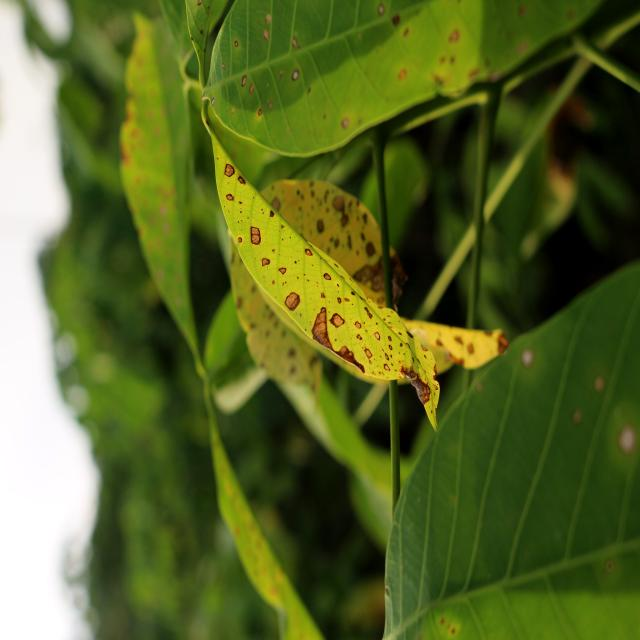Colletotrichum: (285, 292, 300, 311), (224, 163, 235, 177), (241, 75, 247, 87), (323, 273, 331, 280), (305, 248, 312, 256), (226, 193, 233, 201), (374, 332, 380, 340), (235, 41, 239, 48), (388, 335, 392, 341), (388, 344, 392, 350)
